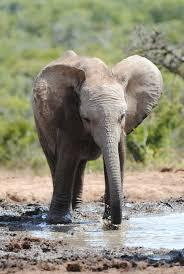elephant: (32, 50, 161, 224)
